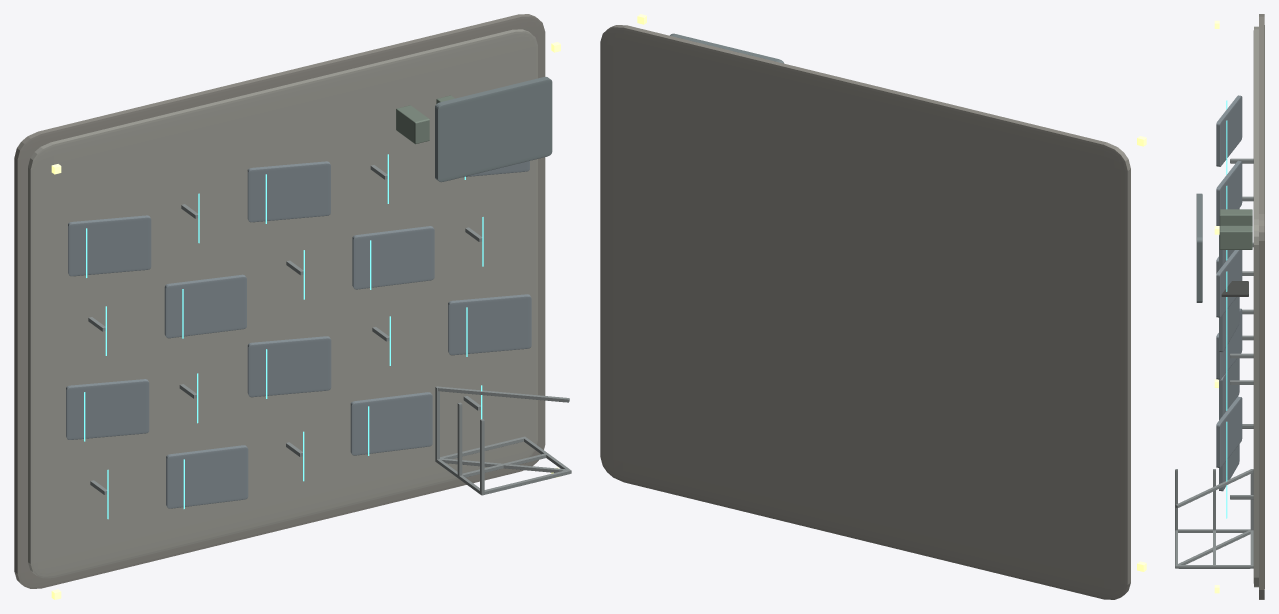
Rendered from b-48-neutral-solar-farm-lod2.glb.
The picture shows the model from 3 angles, left to right: view 1: azimuth 30°, elevation 25°; view 2: azimuth 150°, elevation 25°; view 3: azimuth 270°, elevation 25°; orthographic projection. The views are drawn at different scales.
Parts seen in each view (by area): view 1: foundation_inner_pad, foundation, inverter_house_roof, solar_1_4_panel, solar_1_2_panel, solar_3_0_panel, solar_3_2_panel, solar_1_0_panel, solar_2_1_panel, solar_0_3_panel, solar_0_1_panel, solar_2_3_panel (+1 smaller); view 2: foundation; view 3: foundation, foundation_inner_pad, solar_3_0_panel, solar_1_4_panel, solar_3_2_panel, solar_3_4_panel, solar_1_2_panel, inverter_2, solar_0_1_panel, inverter_house_roof, solar_2_3_panel, inverter_0 (+11 smaller).
Boxes of the visible parts, x1,y1,x2,y2 form: foundation_inner_pad: [28, 29, 537, 578]; foundation: [14, 14, 545, 588]; inverter_house_roof: [435, 77, 552, 182]; solar_1_4_panel: [448, 294, 531, 355]; solar_1_2_panel: [247, 336, 331, 397]; solar_3_0_panel: [68, 215, 151, 276]; solar_3_2_panel: [247, 161, 330, 222]; solar_1_0_panel: [66, 379, 149, 439]; solar_2_1_panel: [164, 274, 246, 338]; solar_0_3_panel: [350, 392, 432, 455]; solar_0_1_panel: [166, 445, 248, 508]; solar_2_3_panel: [352, 226, 434, 289]; foundation: [600, 25, 1130, 599]; foundation: [1259, 14, 1264, 599]; foundation_inner_pad: [1253, 26, 1258, 587]; solar_3_0_panel: [1216, 95, 1242, 166]; solar_1_4_panel: [1216, 396, 1242, 467]; solar_3_2_panel: [1216, 160, 1242, 225]; solar_3_4_panel: [1216, 250, 1242, 317]; solar_1_2_panel: [1216, 308, 1242, 379]; inverter_2: [1219, 225, 1252, 249]; solar_0_1_panel: [1219, 358, 1239, 419]; inverter_house_roof: [1196, 193, 1202, 302]; solar_2_3_panel: [1219, 297, 1239, 352]; inverter_0: [1219, 209, 1252, 225].
Size of what is drawn, in the model's own units: 17 by 14 by 2.97.
